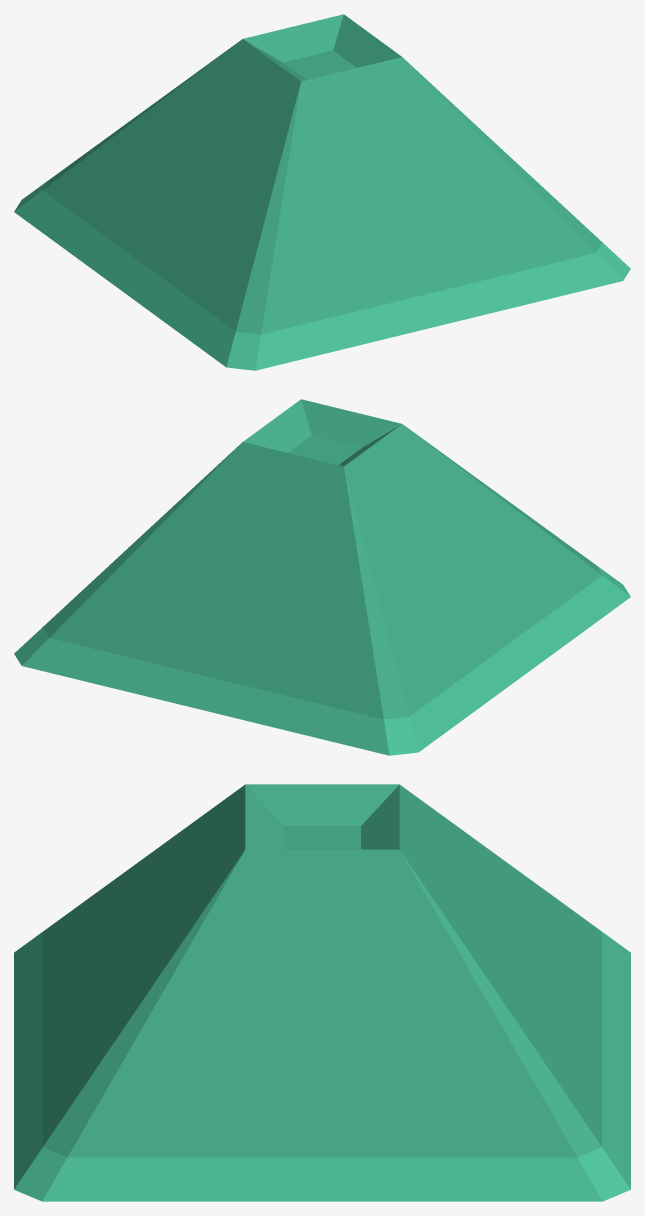
The model's file is roofPoint.fbx.
3 renders of one model, top to bottom at view 1: azimuth 30°, elevation 25°; view 2: azimuth 150°, elevation 25°; view 3: azimuth 270°, elevation 25°, orthographic. The views are drawn at different scales.
Visible parts, largest first — view 1: roofPoint; view 2: roofPoint; view 3: roofPoint.
Boxes of the visible parts, x1,y1,x2,y2 form: roofPoint: [14, 14, 630, 370]; roofPoint: [14, 399, 630, 755]; roofPoint: [14, 784, 630, 1201].
Size of the model in its own units: 11 by 5 by 11.
